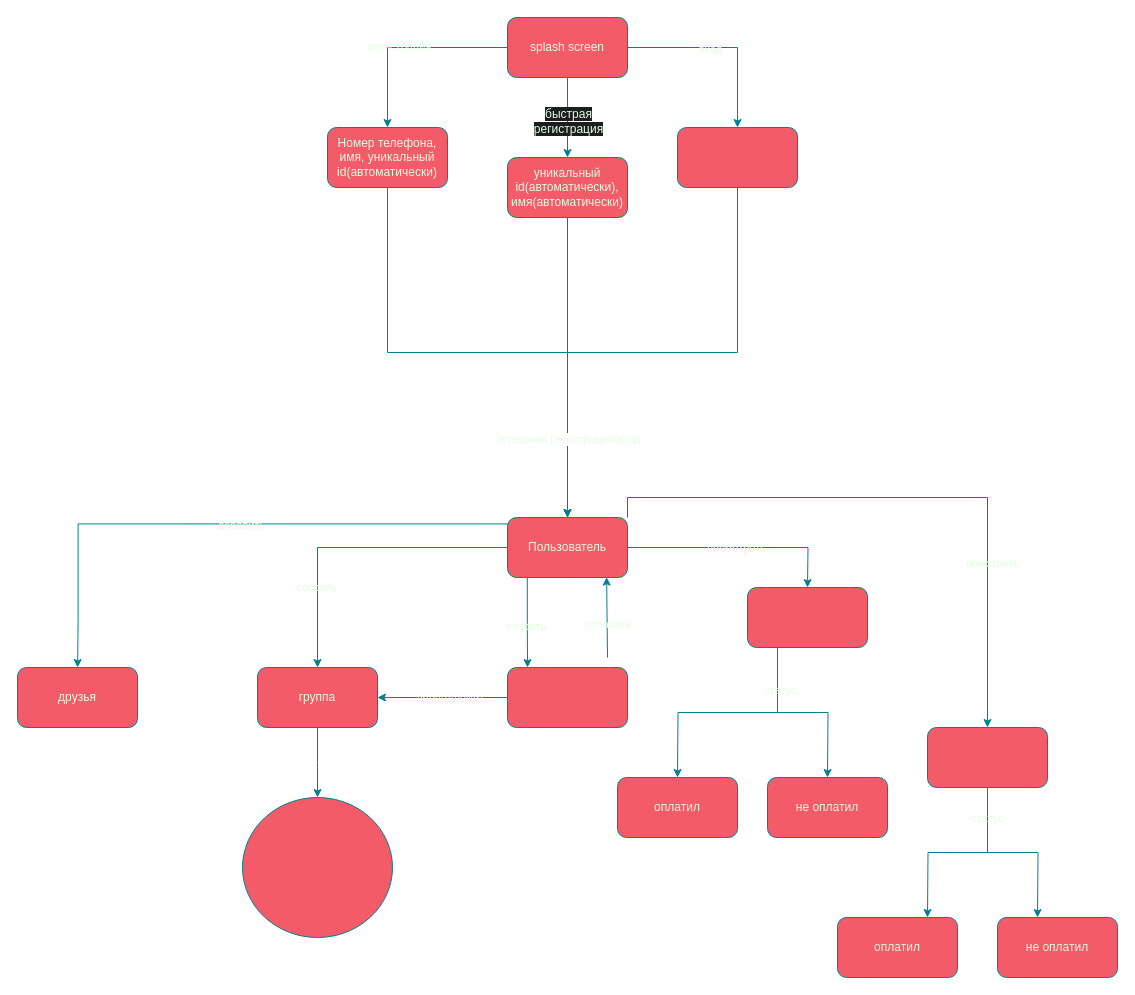
This 1135x995 diagram has some shape labels left out. Each missing label, with the centre of its shape:
"Информация кто сколько и кому должен" goes at (317,867).
"мне должны" goes at (987,757).
"мои долги" goes at (807,617).
"номер телефона или уникальный id" goes at (737,157).
"счёт" goes at (567,697).
